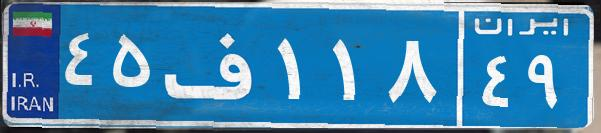1: (273, 28, 330, 110), (330, 28, 385, 110)
4: (57, 26, 110, 107), (475, 38, 525, 113)
5: (110, 28, 158, 105)
8: (385, 28, 445, 110)
9: (525, 38, 570, 115)
ف: (158, 15, 273, 115)
